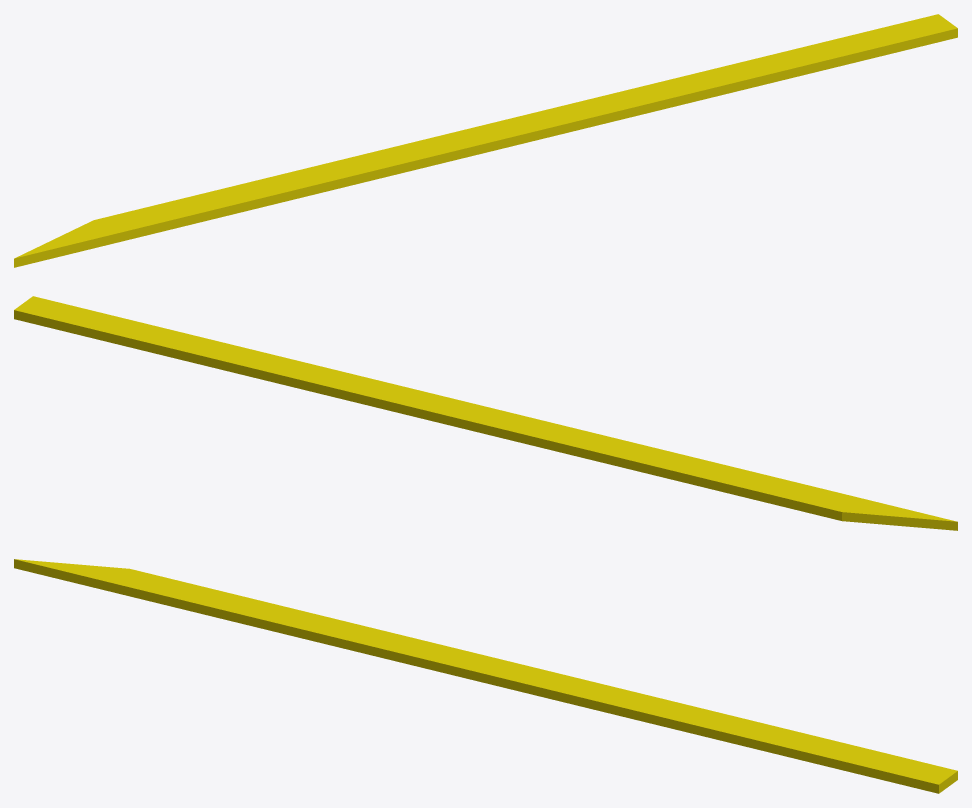
The model's file is Mdl_Vagon_Barras1.fbx.
3 renders of one model, top to bottom at view 1: azimuth 30°, elevation 25°; view 2: azimuth 150°, elevation 25°; view 3: azimuth 330°, elevation 25°, orthographic. The views are drawn at different scales.
Visible parts, largest first — view 1: Mdl_Vagon_Barras1; view 2: Mdl_Vagon_Barras1; view 3: Mdl_Vagon_Barras1.
Boxes of the visible parts, box(x1,y1,x2,y2) form: Mdl_Vagon_Barras1: box(14, 14, 957, 267); Mdl_Vagon_Barras1: box(14, 296, 957, 530); Mdl_Vagon_Barras1: box(14, 559, 957, 793).
Size of the model in its own units: 12.33 by 0.1156 by 0.4403.
